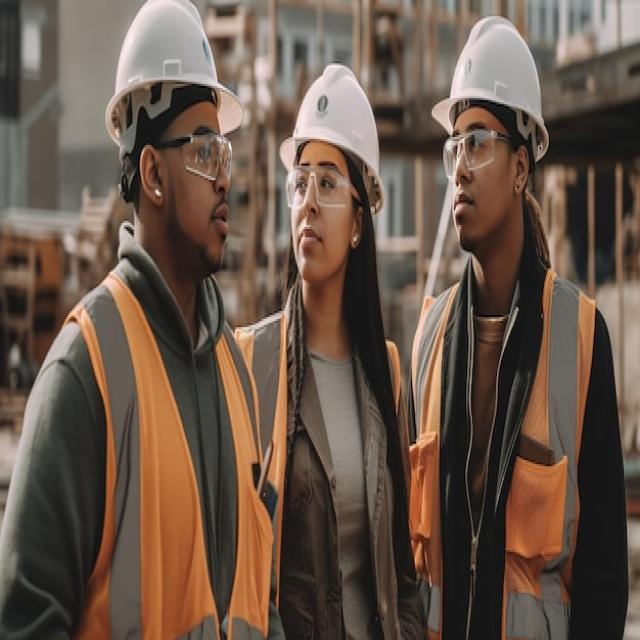goggles: (158, 109, 247, 207), (429, 118, 538, 198), (278, 152, 381, 232)
helmet: (420, 1, 560, 181), (96, 1, 250, 153), (272, 56, 397, 209)
vest: (67, 290, 250, 640), (418, 268, 581, 640), (264, 312, 409, 640)
